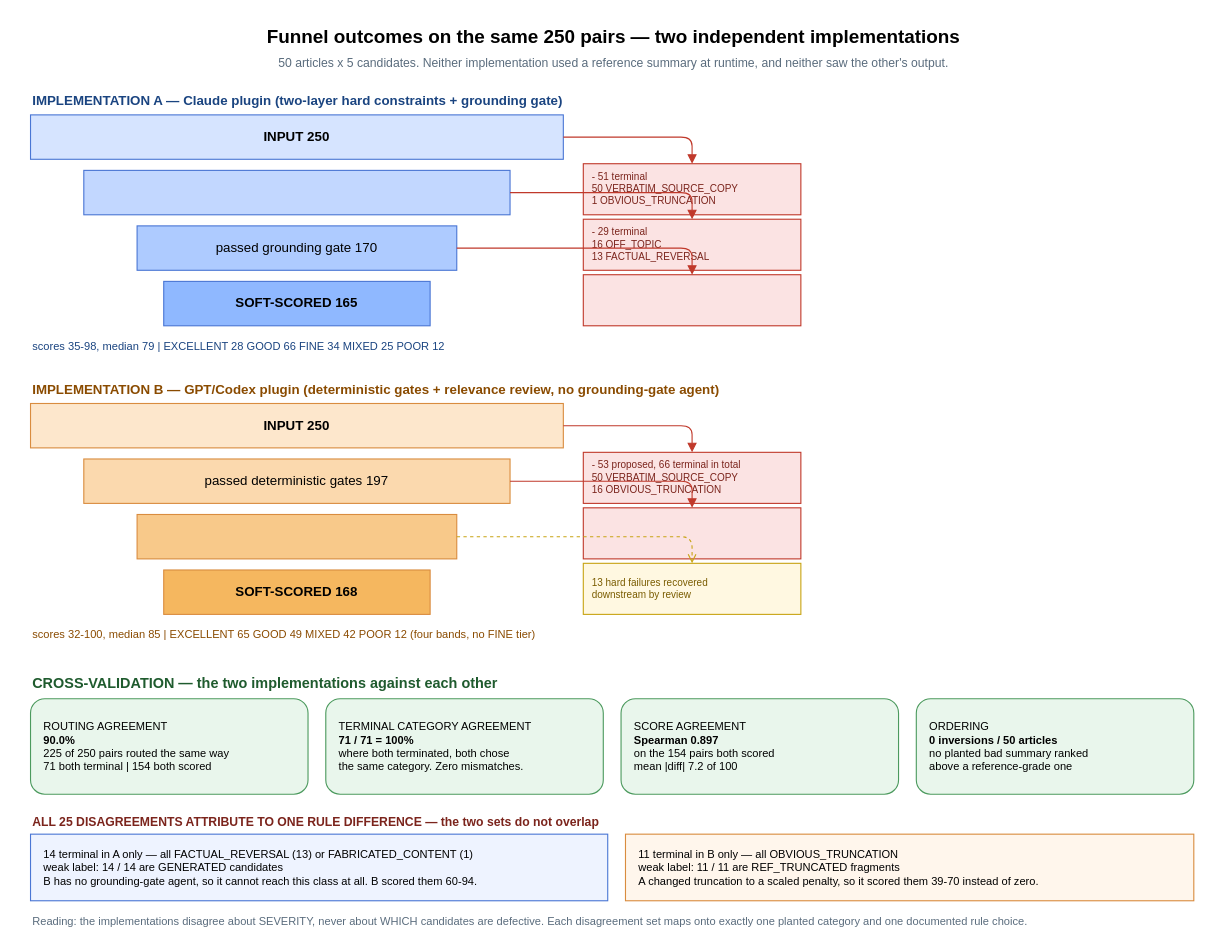
Image size: 1225x948. Some labels were removed from this diagram. Here are the shapes that lost their labels. From the top down, the centre of each, then its label:
At (x=296, y=192): "passed string gates 199".
At (x=691, y=300): "- 5 terminal (reviewer backstop) 4 OBVIOUS_TRUNCATION stubs 1 FABRICATED_CONTENT".
At (x=296, y=536): "passed relevance review 181".
At (x=691, y=533): "- 16 terminal 16 OFF_TOPIC (19 suspects, 3 rejected)".
